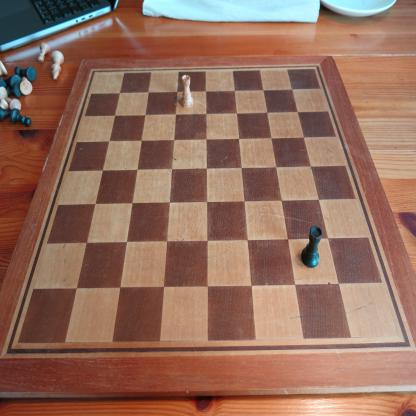black-pawn: (10, 108, 32, 128)
black-rook: (300, 225, 323, 269)
white-bishop: (50, 49, 65, 81)
white-pawn: (38, 42, 50, 63)
white-rook: (180, 74, 194, 108)
